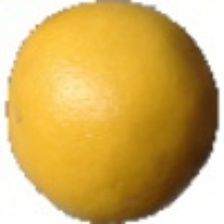grapes: (8, 55, 187, 201)
